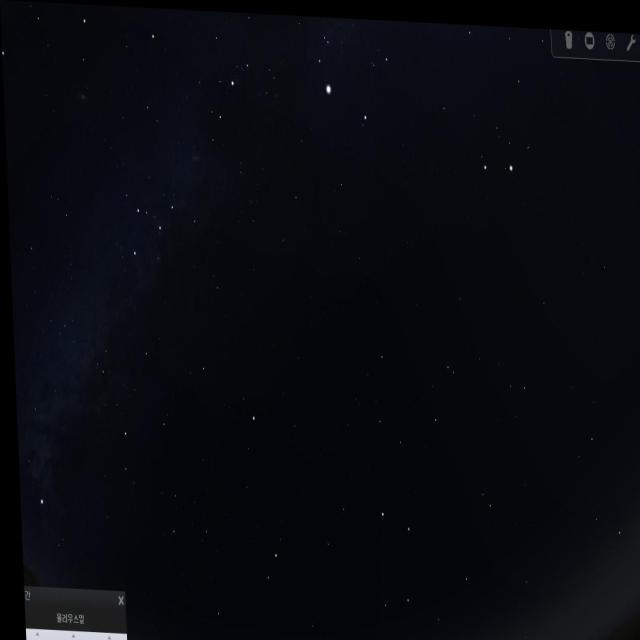cassiopeia: (119, 172, 204, 277)
